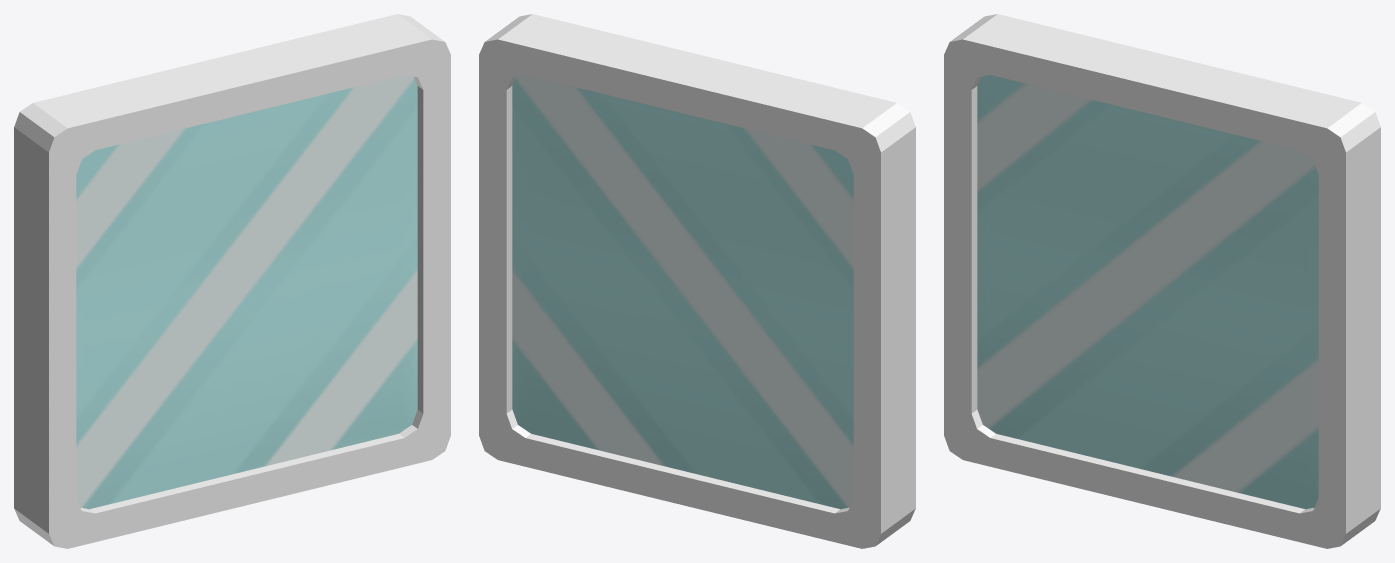
The model's file is Mod_Window_01.fbx.
3 renders of one model, left to right at view 1: azimuth 30°, elevation 25°; view 2: azimuth 150°, elevation 25°; view 3: azimuth 330°, elevation 25°, orthographic.
Visible parts, largest first — view 1: Mod_Window_01; view 2: Mod_Window_01; view 3: Mod_Window_01.
Boxes of the visible parts, x1,y1,x2,y2 form: Mod_Window_01: (14, 14, 450, 548); Mod_Window_01: (479, 14, 915, 548); Mod_Window_01: (944, 14, 1380, 548).
Bounding box in the file's own units: 100 × 100 × 15.
